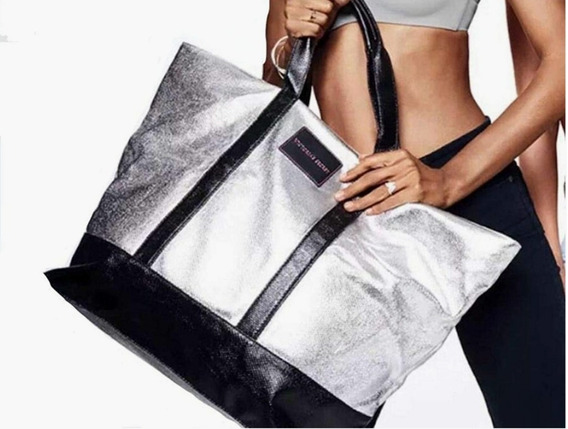cartera: (47, 4, 523, 422)
